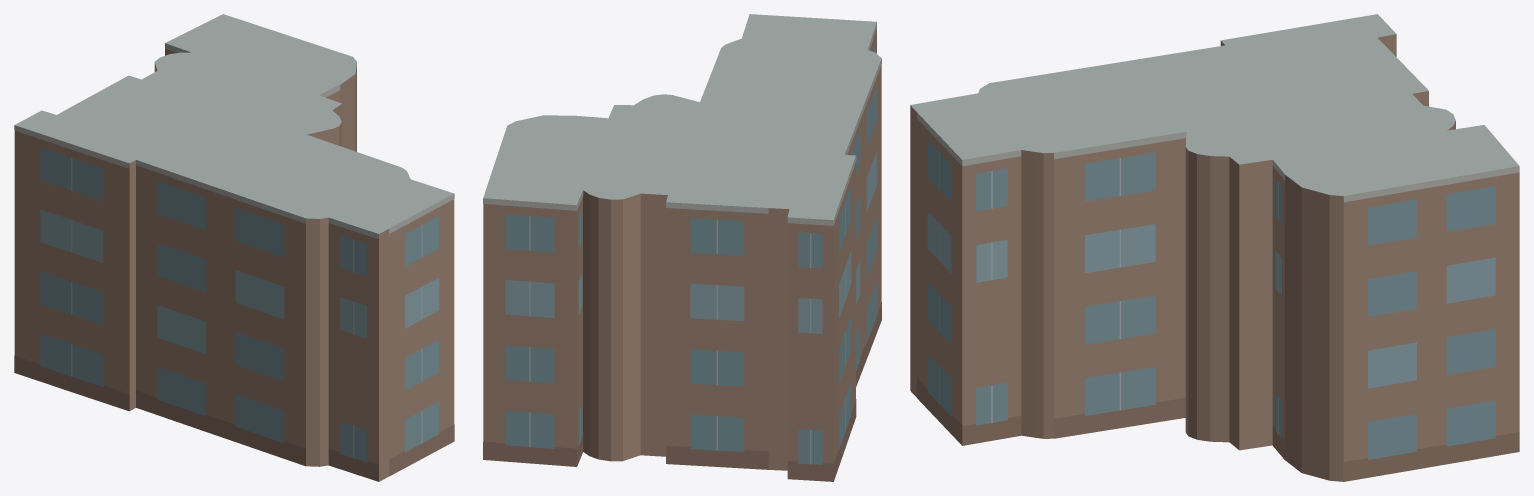
The model's file is survey-upis-32920761.glb.
3 views of the same model, side by side, from view 1: azimuth 30°, elevation 25°; view 2: azimuth 150°, elevation 25°; view 3: azimuth 270°, elevation 25° (orthographic). The views are drawn at different scales.
Visible parts, largest first — view 1: survey-upis-32920761.tmp; view 2: survey-upis-32920761.tmp; view 3: survey-upis-32920761.tmp.
Boxes of the visible parts, x1,y1,x2,y2 form: survey-upis-32920761.tmp: [14, 14, 454, 481]; survey-upis-32920761.tmp: [483, 14, 881, 481]; survey-upis-32920761.tmp: [910, 14, 1519, 481].
Size of the model in its own units: 15.32 by 11.2 by 21.66.
